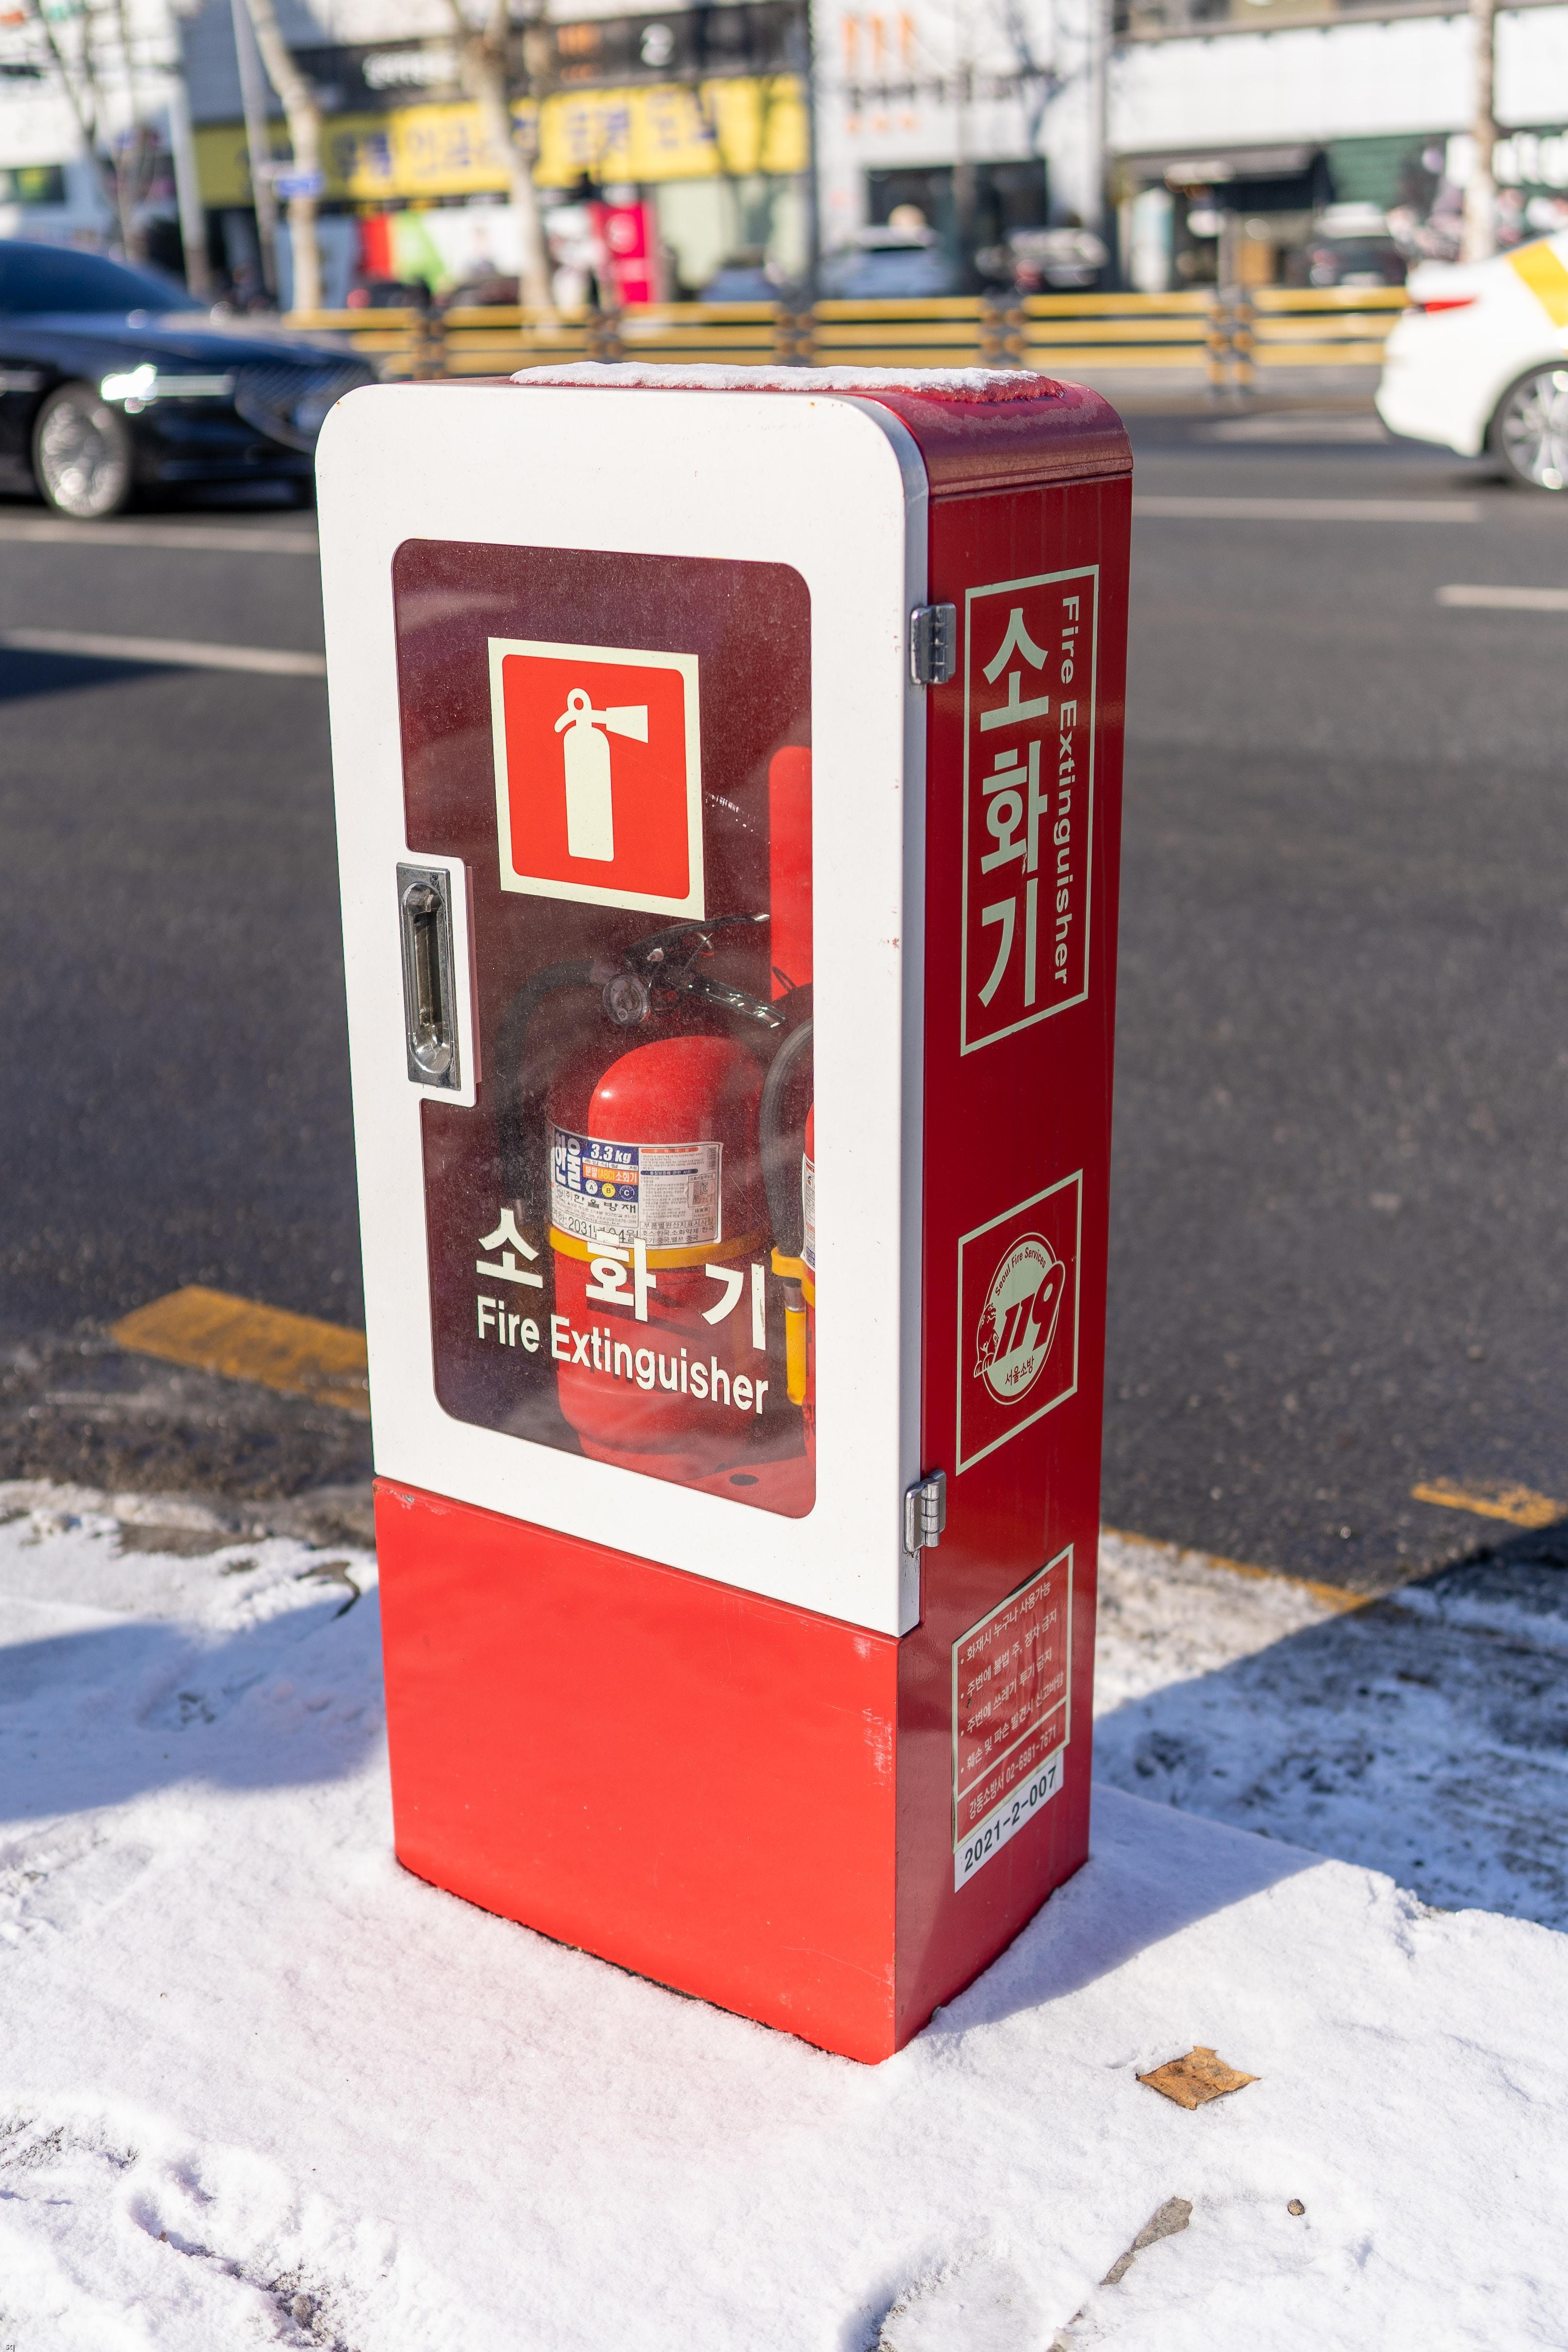Fire Extinguisher: (495, 880, 807, 1501)
